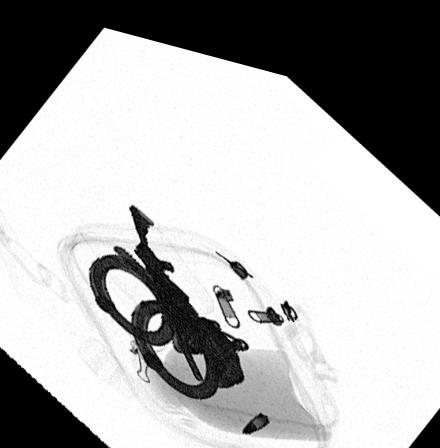Bullet: (239, 398, 270, 420)
Gun: (129, 194, 204, 371)
HandCuffs: (87, 237, 252, 395)
